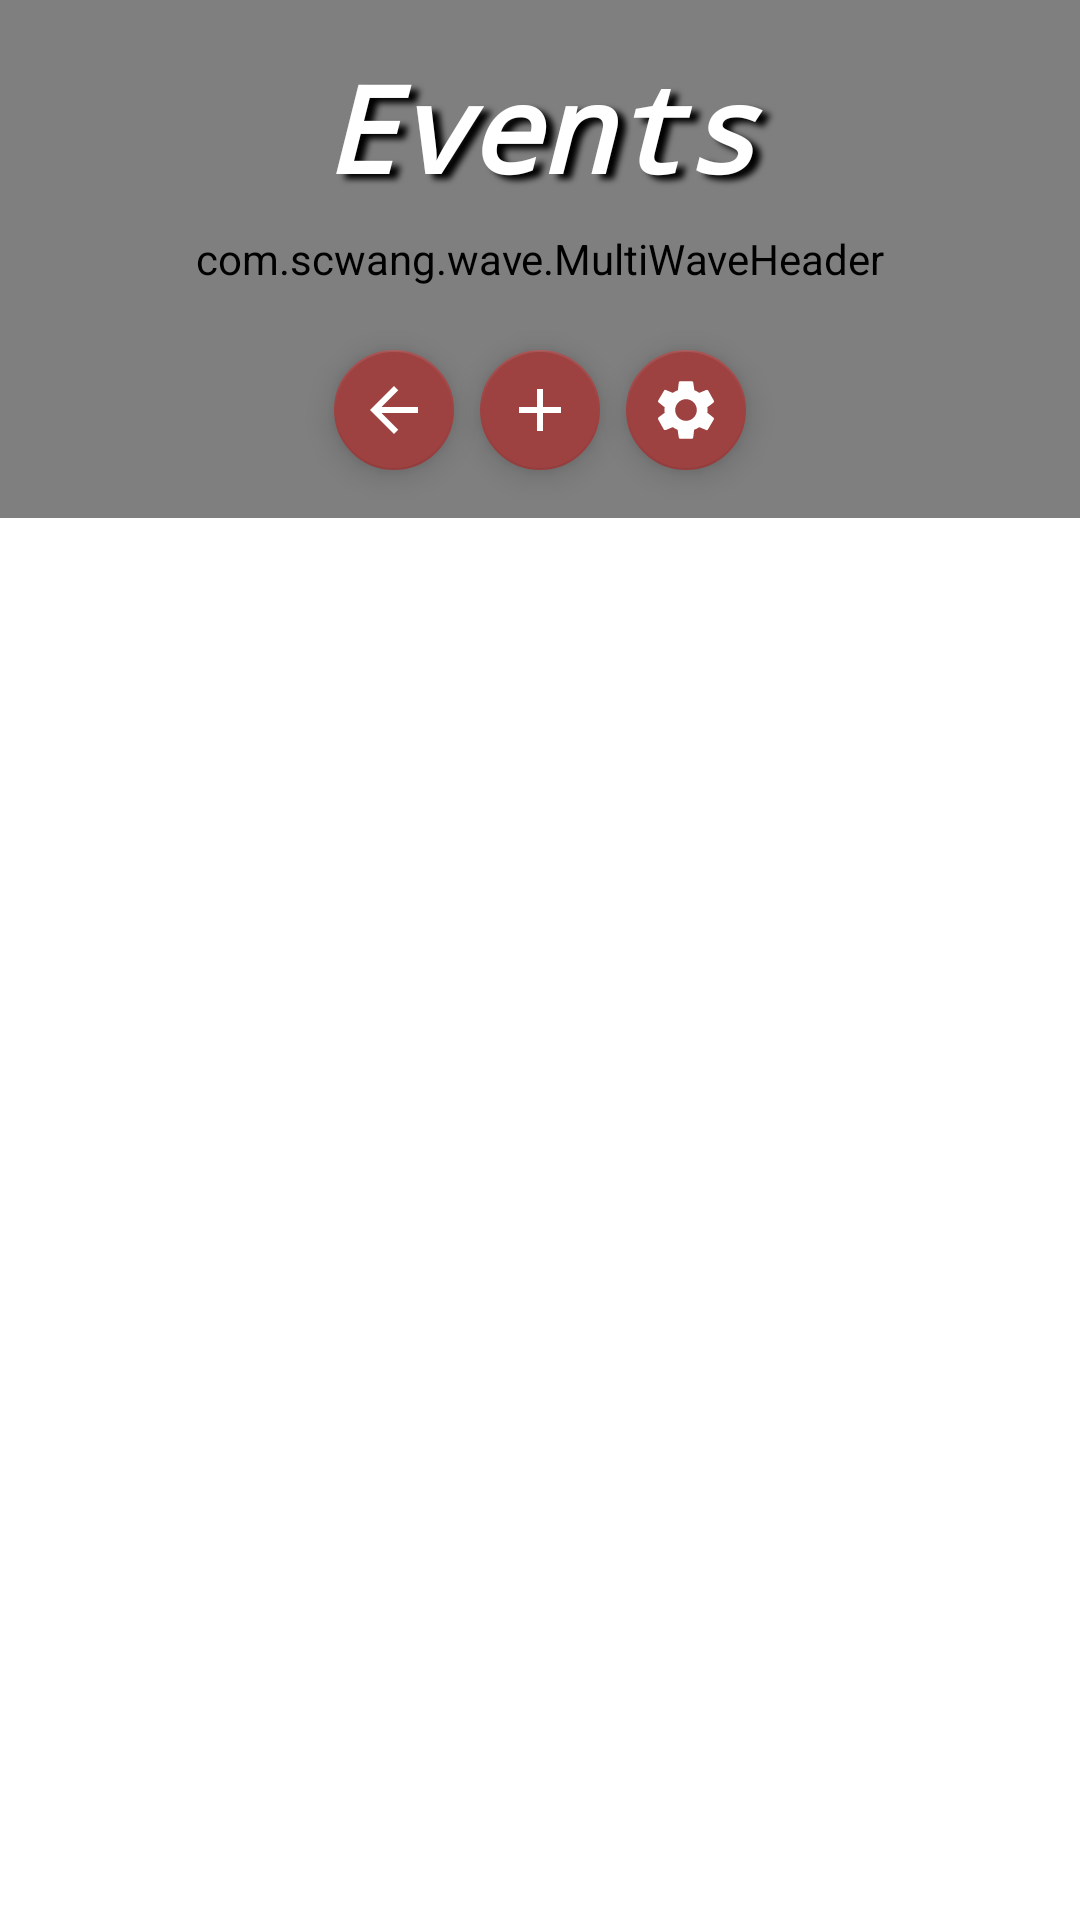

Icons on this 1080×1920 Android screen, each with the point to tap as (x=x, y=y):
add: (x=540, y=410)
back: (x=394, y=410)
settings: (x=686, y=410)
